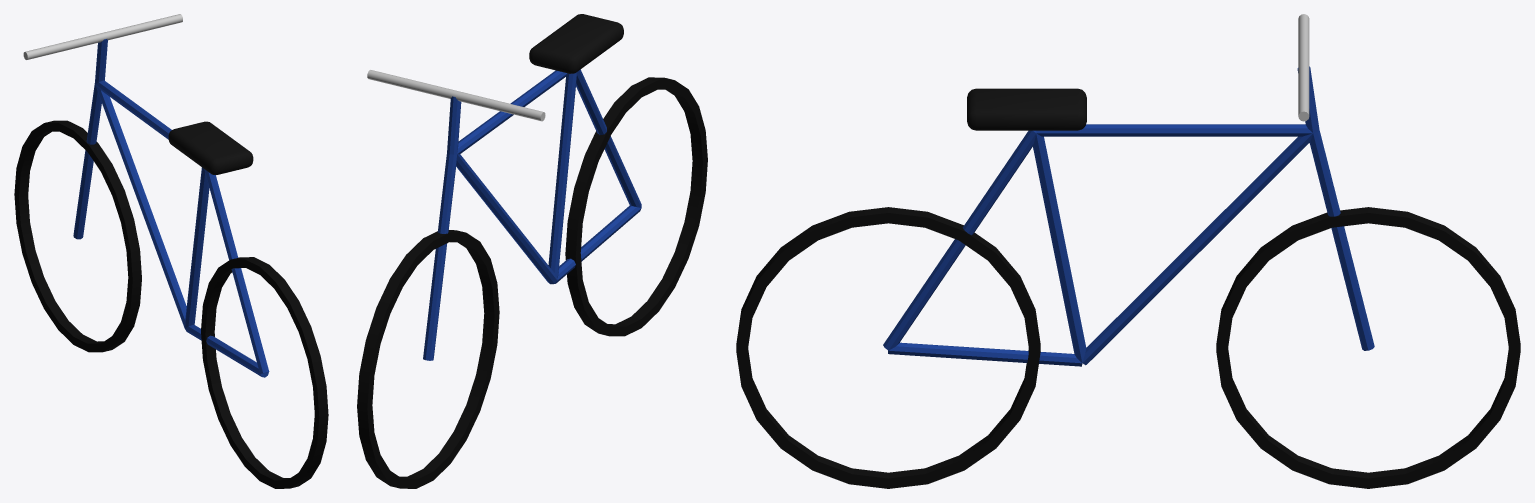
The model's file is furniture.home.bicycle.glb.
3 renders of one model, left to right at view 1: azimuth 30°, elevation 25°; view 2: azimuth 150°, elevation 25°; view 3: azimuth 270°, elevation 25°, orthographic. The views are drawn at different scales.
Parts seen in each view (by area): view 1: main__rubber, main__plastic_blue, main__leather_black, main__steel_stainless; view 2: main__rubber, main__plastic_blue, main__leather_black, main__steel_stainless; view 3: main__rubber, main__plastic_blue, main__leather_black, main__steel_stainless.
Part boxes in pixels (x1,y1,x2,y2): main__rubber: (14,120,328,488); main__plastic_blue: (73,39,269,377); main__leather_black: (168,121,253,174); main__steel_stainless: (23,14,182,59); main__rubber: (357,77,707,488); main__plastic_blue: (423,69,641,360); main__leather_black: (529,14,623,73); main__steel_stainless: (367,70,545,121); main__rubber: (736,207,1520,488); main__plastic_blue: (883,66,1374,366); main__leather_black: (967,88,1086,130); main__steel_stainless: (1298,14,1309,121).
Size of the model in its own units: 0.5 by 1.01 by 1.7.
